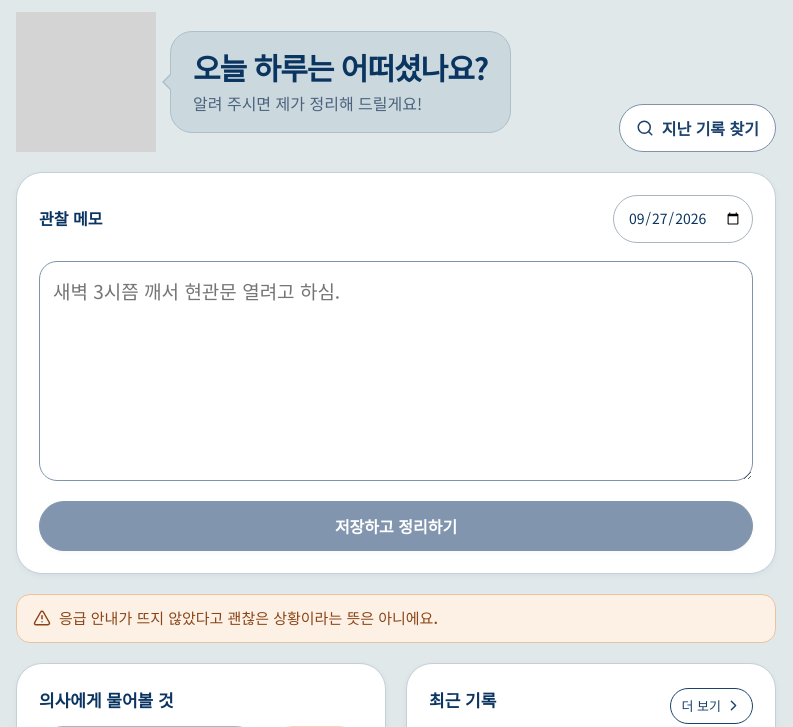
it: 관찰 입력 아래 질문 카드를 두고 화면 이동 뒤에도 초안을 유지한다
Expected: the heading "오늘 하루는 어떠셨나요?" is shown, 193,46 -> 488,88
Expected: the date field named "기록 날짜" holds "2026-09-27", 613,195 -> 753,243
Type "작성 중인 원문" into the text box labelled "관찰 메모" at x=396, y=371, box 39,261 -> 753,481
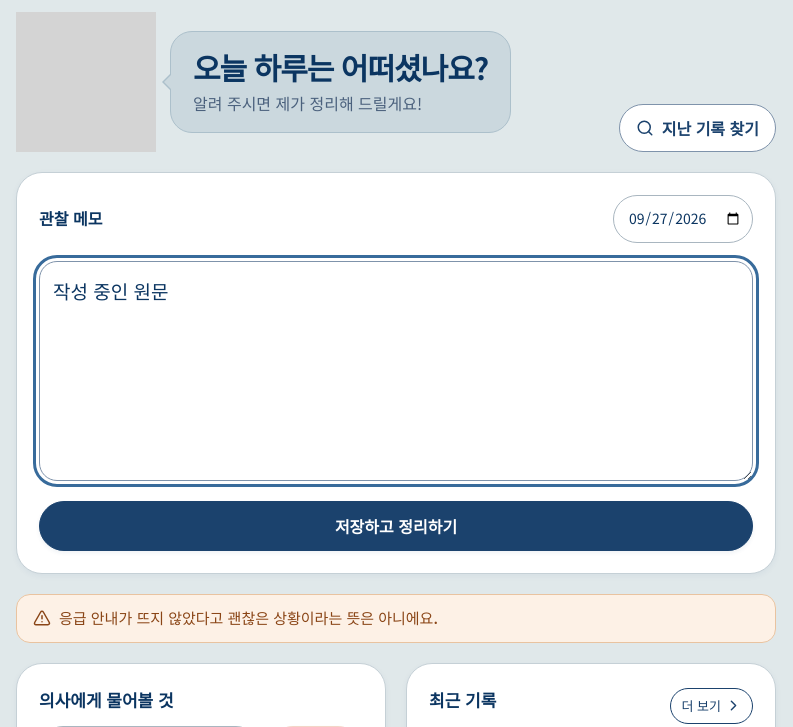
Type "2026-09-25" into the date field named "기록 날짜" at x=683, y=219, box 613,195 -> 753,243
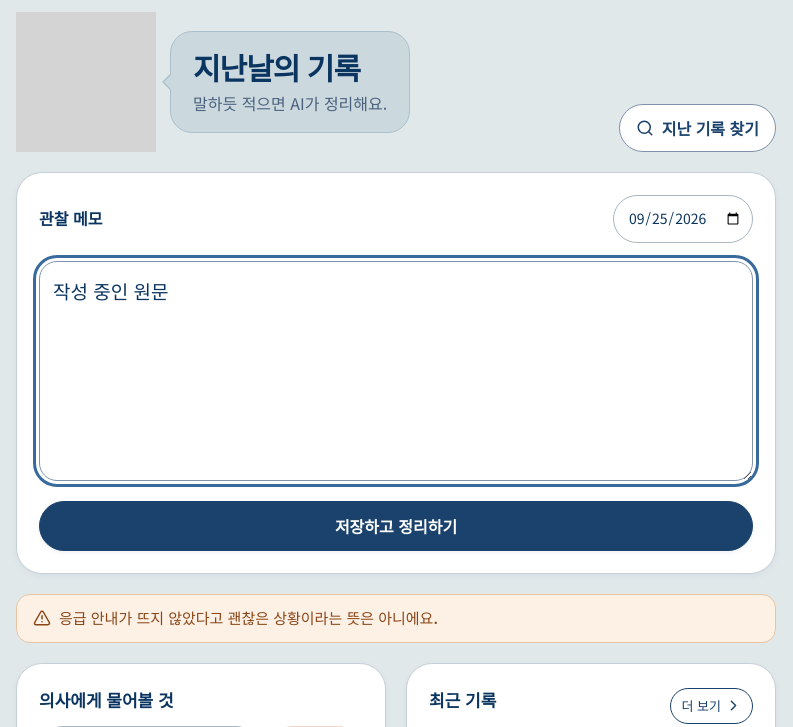
Result: the heading "지난날의 기록" is shown at 193,46 -> 387,88
Result: the heading "오늘" is gone
